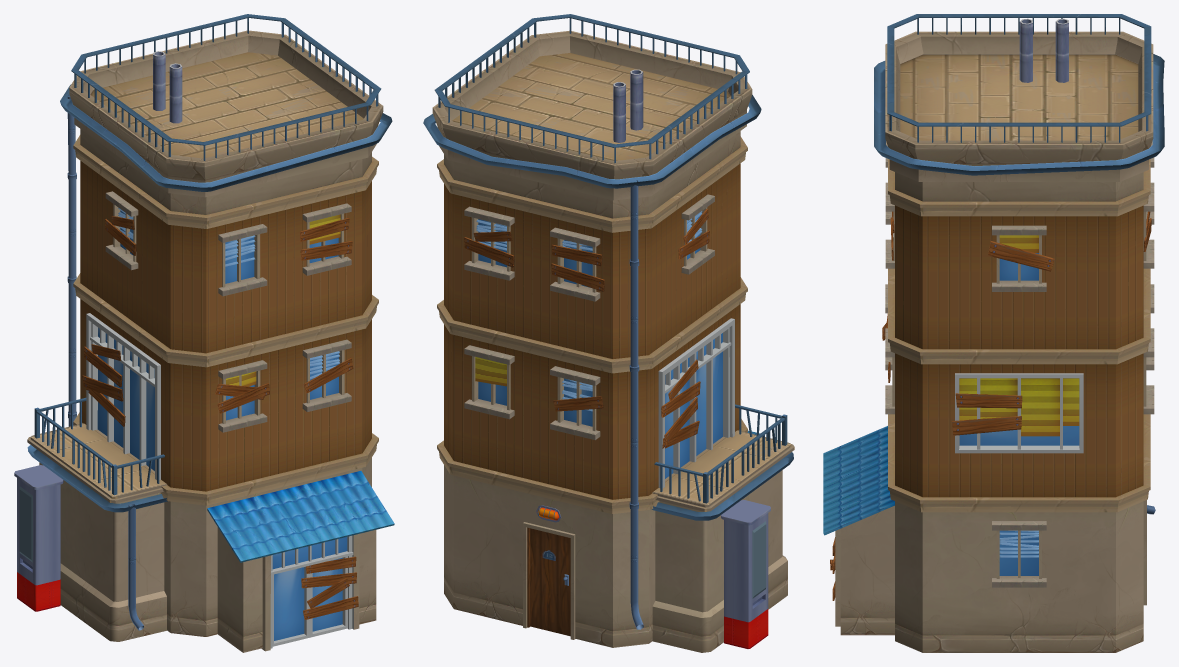
File: Building_02_1_LOD1.fbx
The picture shows the model from 3 angles, left to right: view 1: azimuth 30°, elevation 25°; view 2: azimuth 150°, elevation 25°; view 3: azimuth 270°, elevation 25°; orthographic projection. The views are drawn at different scales.
Visible parts, largest first — view 1: polySurface3657; view 2: polySurface3657; view 3: polySurface3657.
Part boxes in pixels (<box>): polySurface3657: <box>14,14,394,652</box>; polySurface3657: <box>423,14,794,652</box>; polySurface3657: <box>823,14,1164,652</box>.
Bounding box in the file's own units: 736 × 1211 × 673.
